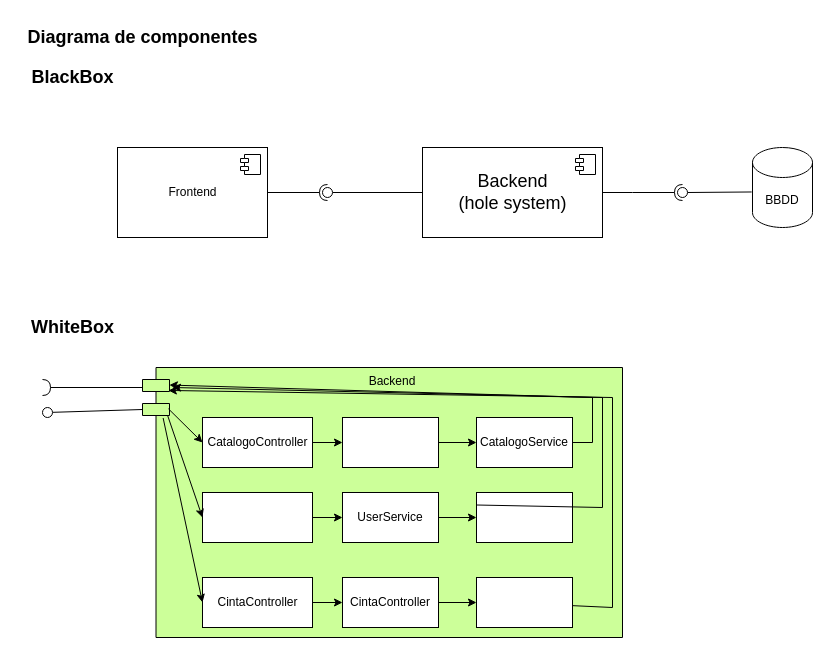
Image size: 830x655. Some labels were removed from this diagram. The shapes that lost their labels are listed below. From the top down, each one's centre as x and y in pixels, then its label:
At [390,442]: "CatologoService".
At [257,517]: "UserController".
At [524,517]: "UserRepository".
At [524,602]: "CintaRepository".
